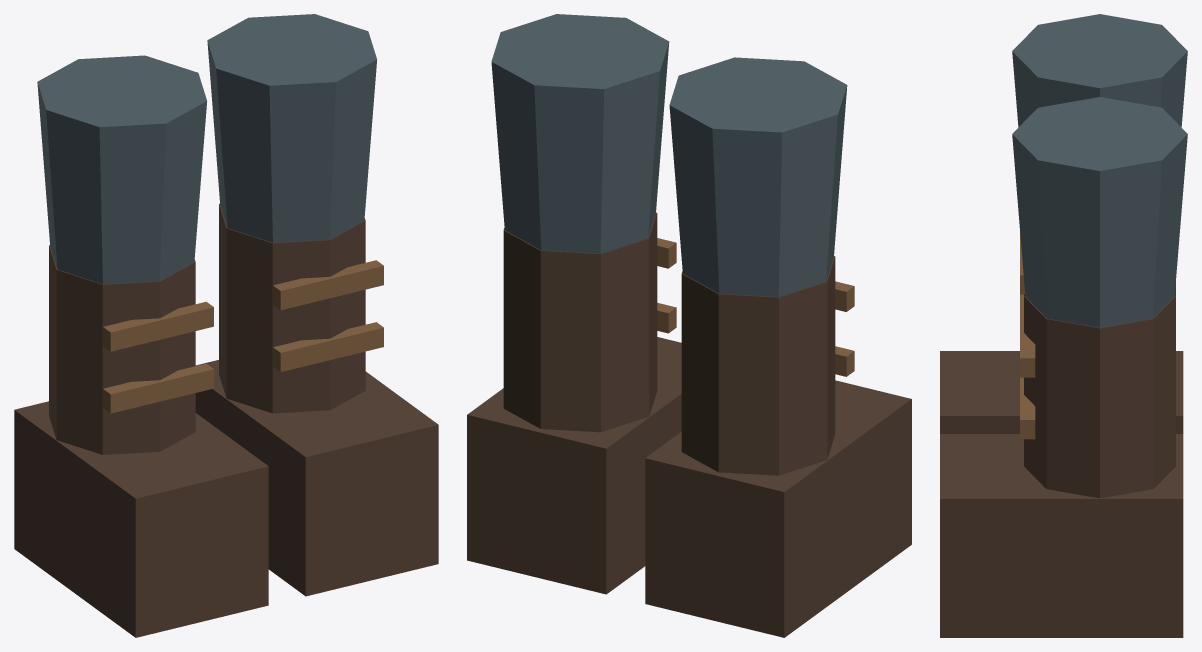
The model's file is NPC_Legs_02_RangerBoots.glb.
The picture shows the model from 3 angles, left to right: view 1: azimuth 30°, elevation 25°; view 2: azimuth 150°, elevation 25°; view 3: azimuth 270°, elevation 25°; orthographic projection. The views are drawn at different scales.
Visible parts, largest first — view 1: NPC_Legs_02_RangerBoots; view 2: NPC_Legs_02_RangerBoots; view 3: NPC_Legs_02_RangerBoots.
Boxes of the visible parts, left/top/right/bottom form: NPC_Legs_02_RangerBoots: left=14, top=14, right=438, bottom=637; NPC_Legs_02_RangerBoots: left=467, top=14, right=911, bottom=637; NPC_Legs_02_RangerBoots: left=940, top=14, right=1187, bottom=637.
Bounding box in the file's own units: 0.436 × 0.61 × 0.2905.
